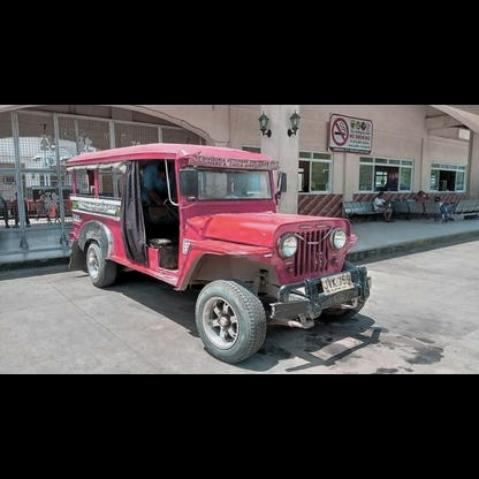jeepney: (54, 132, 380, 361)
